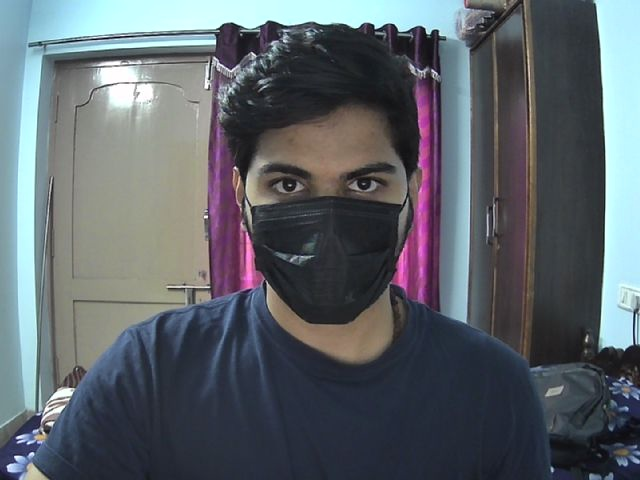Mask: (247, 196, 404, 326)
